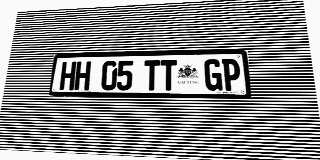0: (101, 61, 118, 90)
5: (116, 60, 133, 90)
G: (204, 59, 223, 91)
H: (74, 61, 91, 90), (59, 62, 76, 90)
P: (222, 59, 241, 91)
T: (160, 60, 177, 91), (144, 60, 160, 90)
